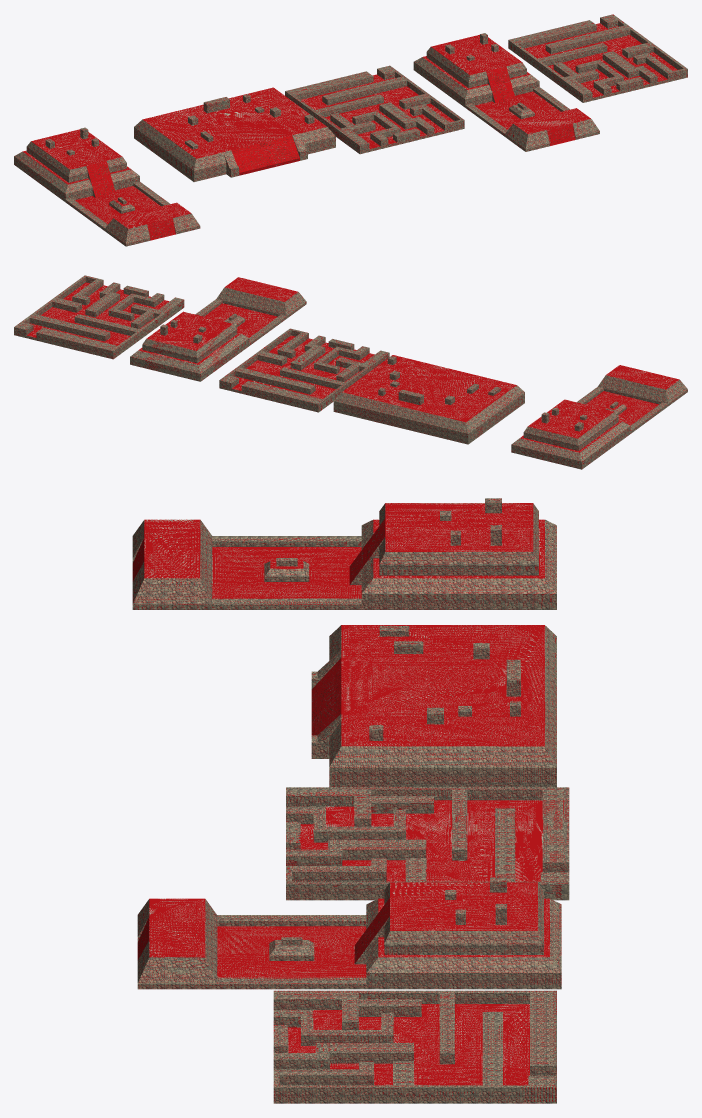
File: plataformaOeste.obj
3 views of the same model, one above another, from view 1: azimuth 30°, elevation 25°; view 2: azimuth 150°, elevation 25°; view 3: azimuth 270°, elevation 25° (orthographic). The views are drawn at different scales.
Parts seen in each view (by area): view 1: Mesh2 Model, Mesh4 Model, Mesh1 Model, Mesh5 Model, Mesh3 Model; view 2: Mesh2 Model, Mesh1 Model, Mesh4 Model, Mesh5 Model, Mesh3 Model; view 3: Mesh4 Model, Mesh2 Model, Mesh1 Model, Mesh5 Model, Mesh3 Model.
Boxes of the visible parts, box(x1,y1,x2,y2) form: Mesh2 Model: box(134, 87, 335, 181); Mesh4 Model: box(413, 33, 599, 151); Mesh1 Model: box(14, 127, 200, 246); Mesh5 Model: box(508, 14, 687, 102); Mesh3 Model: box(285, 65, 464, 154); Mesh2 Model: box(333, 355, 524, 444); Mesh1 Model: box(511, 365, 687, 469); Mesh4 Model: box(130, 277, 306, 381); Mesh5 Model: box(14, 275, 184, 359); Mesh3 Model: box(219, 328, 389, 412); Mesh4 Model: box(137, 877, 561, 989); Mesh2 Model: box(311, 625, 556, 787); Mesh1 Model: box(132, 498, 556, 609); Mesh5 Model: box(273, 990, 556, 1103); Mesh3 Model: box(286, 787, 569, 900).
Size of the model in its own units: 222 by 13.51 by 73.79.
